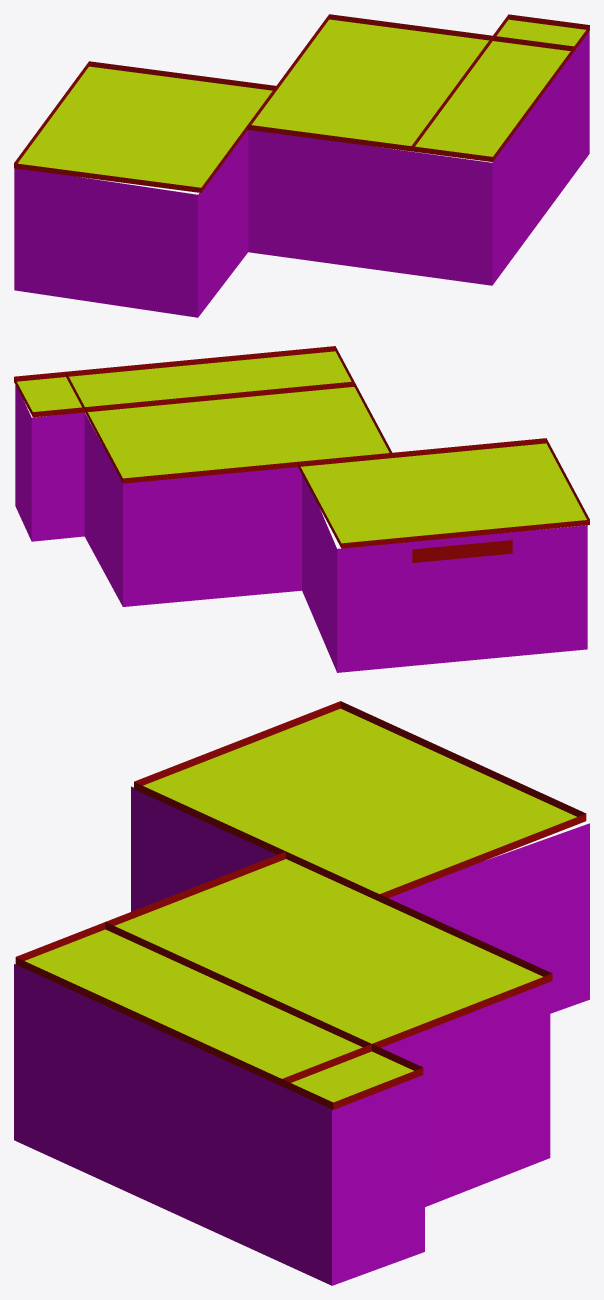
3 renders of one model, top to bottom at view 1: azimuth 30°, elevation 25°; view 2: azimuth 150°, elevation 25°; view 3: azimuth 270°, elevation 25°, orthographic. The views are drawn at different scales.
Visible parts, largest first — view 1: sc_15; view 2: sc_15; view 3: sc_15.
Part boxes in pixels (<box>): sc_15: <box>14,14,589,317</box>; sc_15: <box>14,346,589,672</box>; sc_15: <box>14,701,589,1285</box>.
Bounding box in the file's own units: 39.98 × 8.54 × 24.24.
